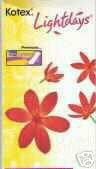grozi_81: (0, 0, 96, 168)
